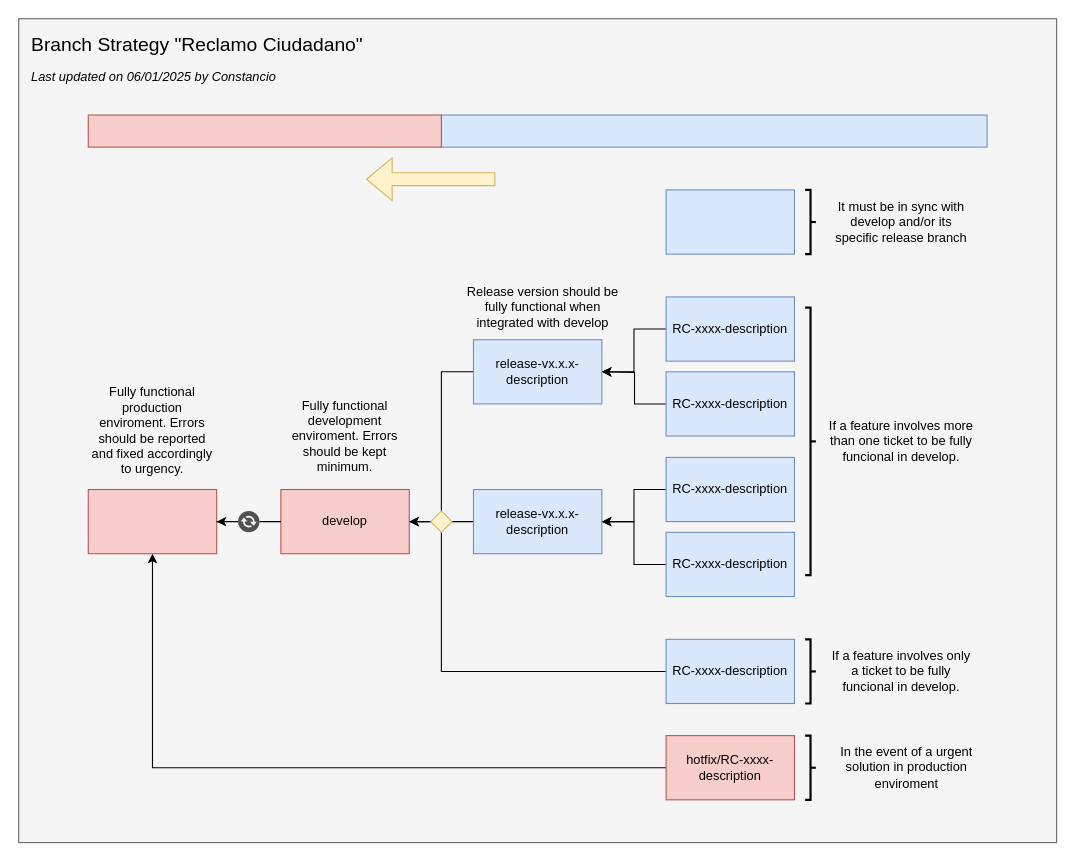
Image size: 1075x861. Some labels were removed from this diagram. The centre of each missing label's shape, as x and y in pixels:
"DEV OWNERSHIP" goes at [713,130].
"main" goes at [152,521].
"merge requests" goes at [430,179].
"New Branch" goes at [729,221].
"WHOLE TEAM OWNERSHIP" goes at [264,130].
